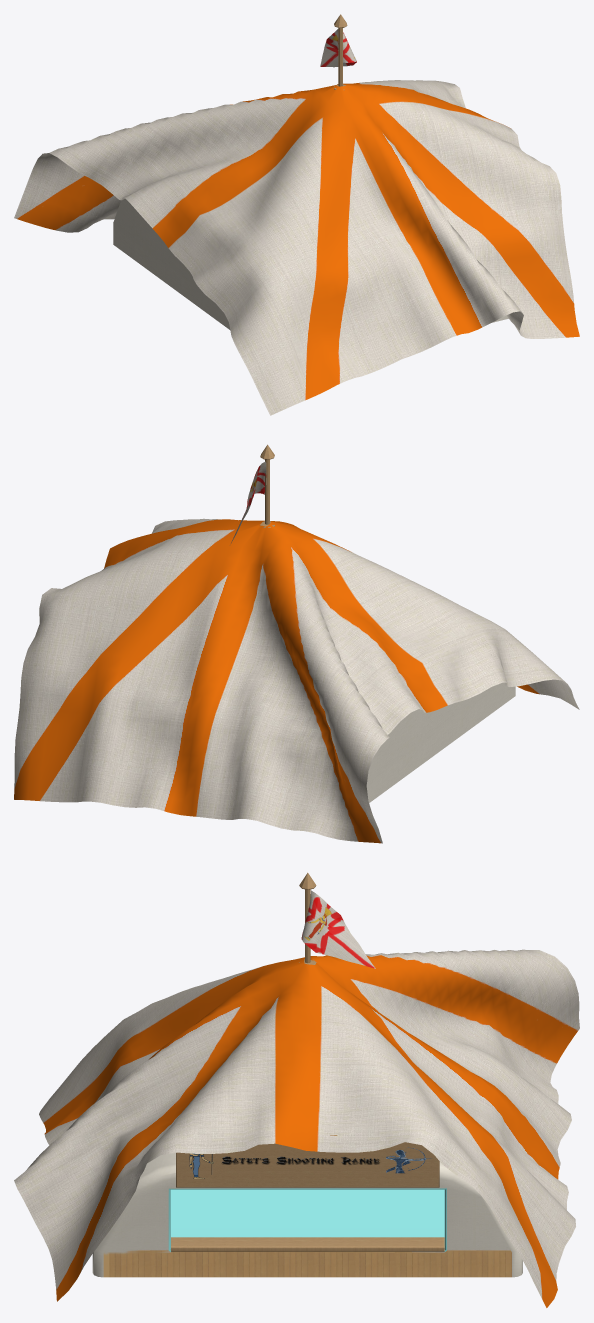
Rendered from ShootingGallery_03.fbx.
3 views of the same model, one above another, from view 1: azimuth 30°, elevation 25°; view 2: azimuth 150°, elevation 25°; view 3: azimuth 270°, elevation 25° (orthographic). The views are drawn at different scales.
Parts seen in each view (by area): view 1: Gallery1; view 2: Gallery1; view 3: Gallery1.
Part boxes in pixels (x1,y1,x2,y2): Gallery1: [14, 14, 579, 415]; Gallery1: [14, 444, 579, 843]; Gallery1: [14, 872, 579, 1307].
Bounding box in the file's own units: 54.45 × 39.75 × 57.51.
Materials: 3 (3 with a texture image).
